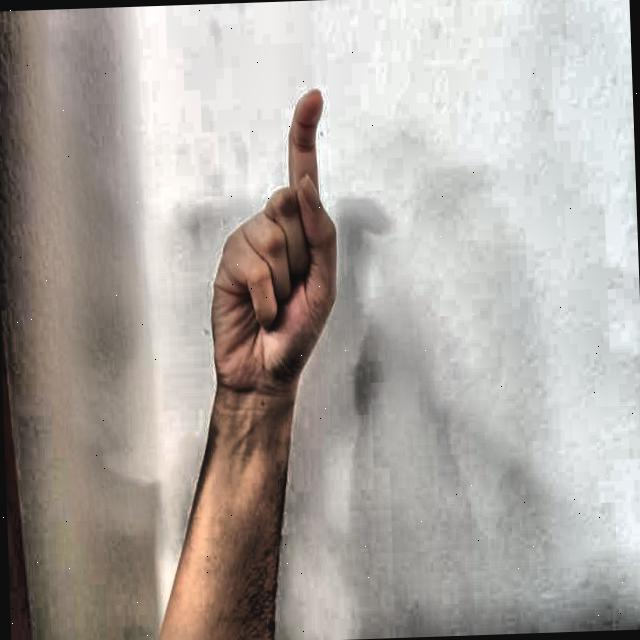E: (165, 66, 361, 408)
